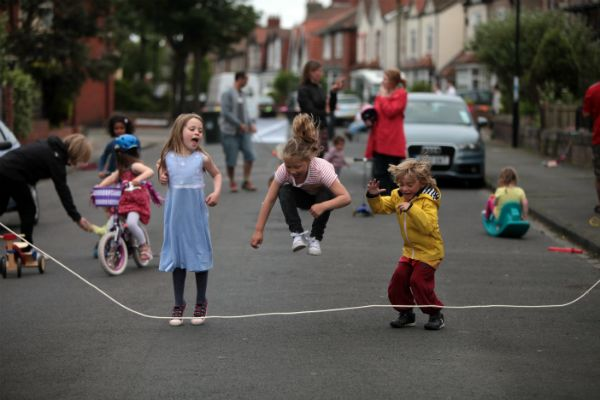Person: (365, 157, 453, 330), (157, 106, 214, 331), (371, 71, 403, 191)
